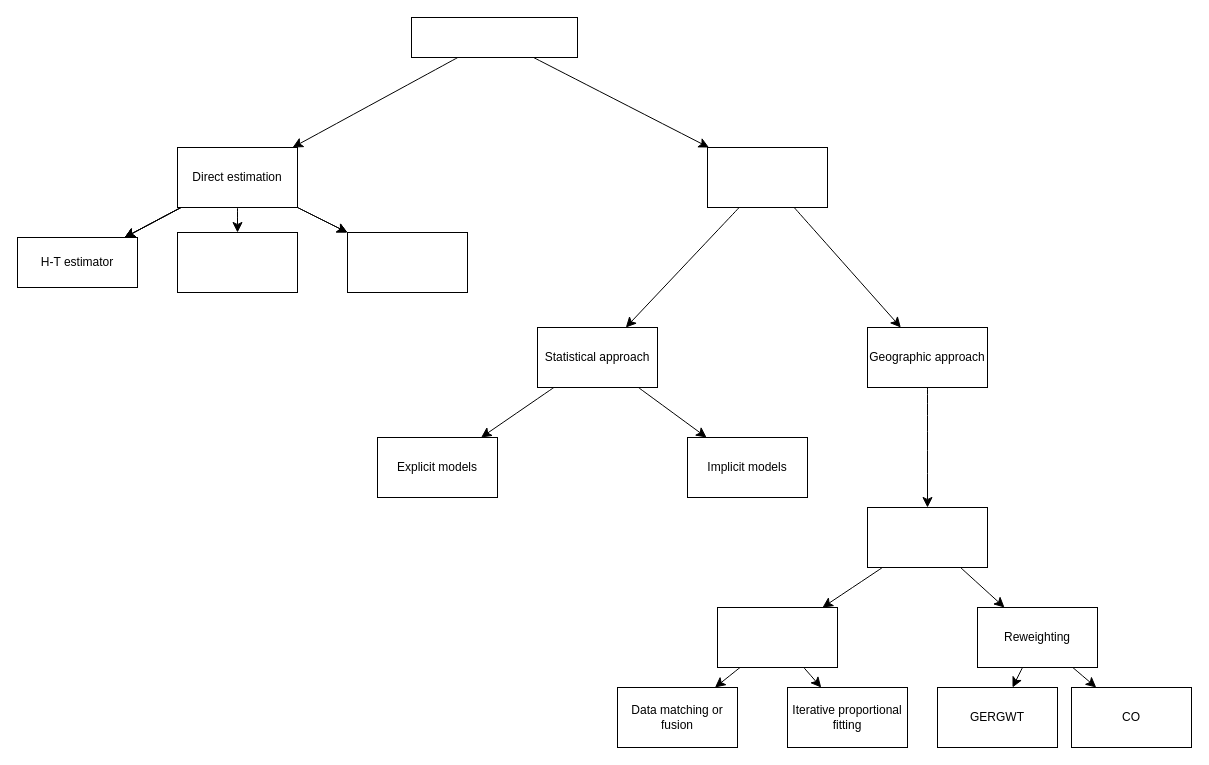
This 1209x765 diagram has some shape labels left out. The shapes that lost their labels are listed below. From the top down, each one's centre as x and y in pixels, then its label:
At (x=494, y=37): "Small Area Estimation".
At (x=767, y=177): "Model-based estimation".
At (x=237, y=262): "GREG estimator".
At (x=407, y=262): "Modified direct estiamtor".
At (x=927, y=537): "Microsimulation models".
At (x=777, y=637): "Synthetic reconstruction".
